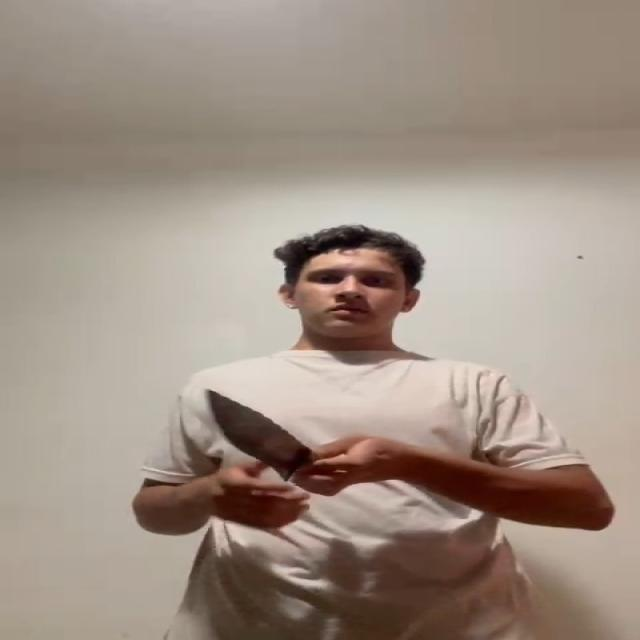knife: (206, 388, 312, 476)
